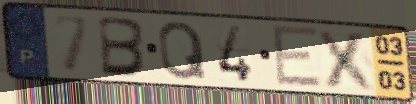4: (216, 23, 255, 84)
7: (51, 13, 92, 74)
B: (97, 14, 150, 79)
E: (269, 22, 326, 89)
Q: (156, 19, 210, 82)
X: (314, 27, 381, 93)
